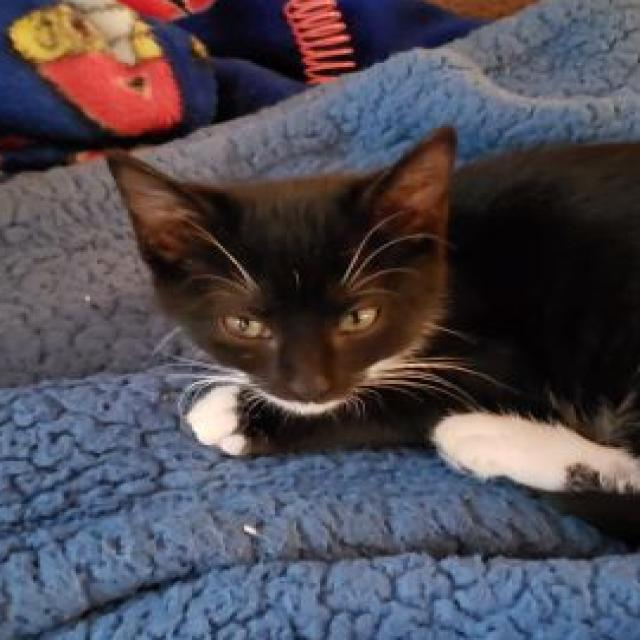Tuxedo: (99, 117, 640, 550)
